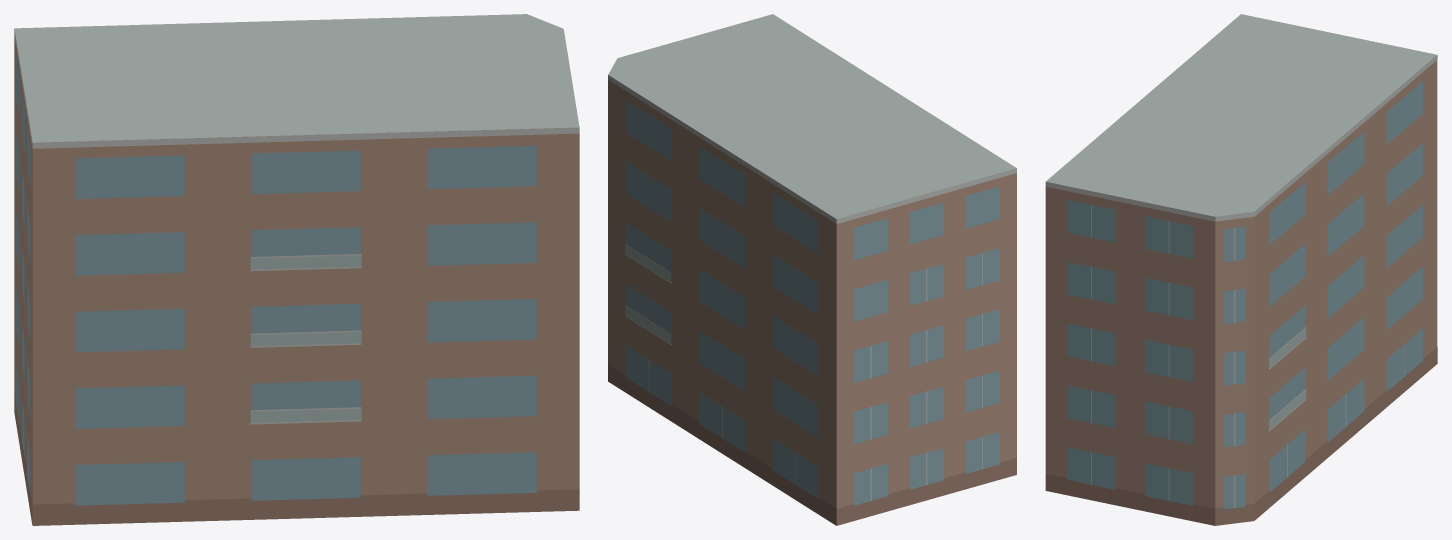
The model's file is survey-upis-32902670.glb.
The picture shows the model from 3 angles, left to right: view 1: azimuth 30°, elevation 25°; view 2: azimuth 150°, elevation 25°; view 3: azimuth 270°, elevation 25°; orthographic projection. The views are drawn at different scales.
Parts seen in each view (by area): view 1: survey-upis-32902670.tmp; view 2: survey-upis-32902670.tmp; view 3: survey-upis-32902670.tmp.
Part boxes in pixels (x1,y1,x2,y2): survey-upis-32902670.tmp: (14,14,579,525); survey-upis-32902670.tmp: (608,14,1016,525); survey-upis-32902670.tmp: (1045,14,1437,525).
Bounding box in the file's own units: 21.46 × 15.25 × 17.53.
